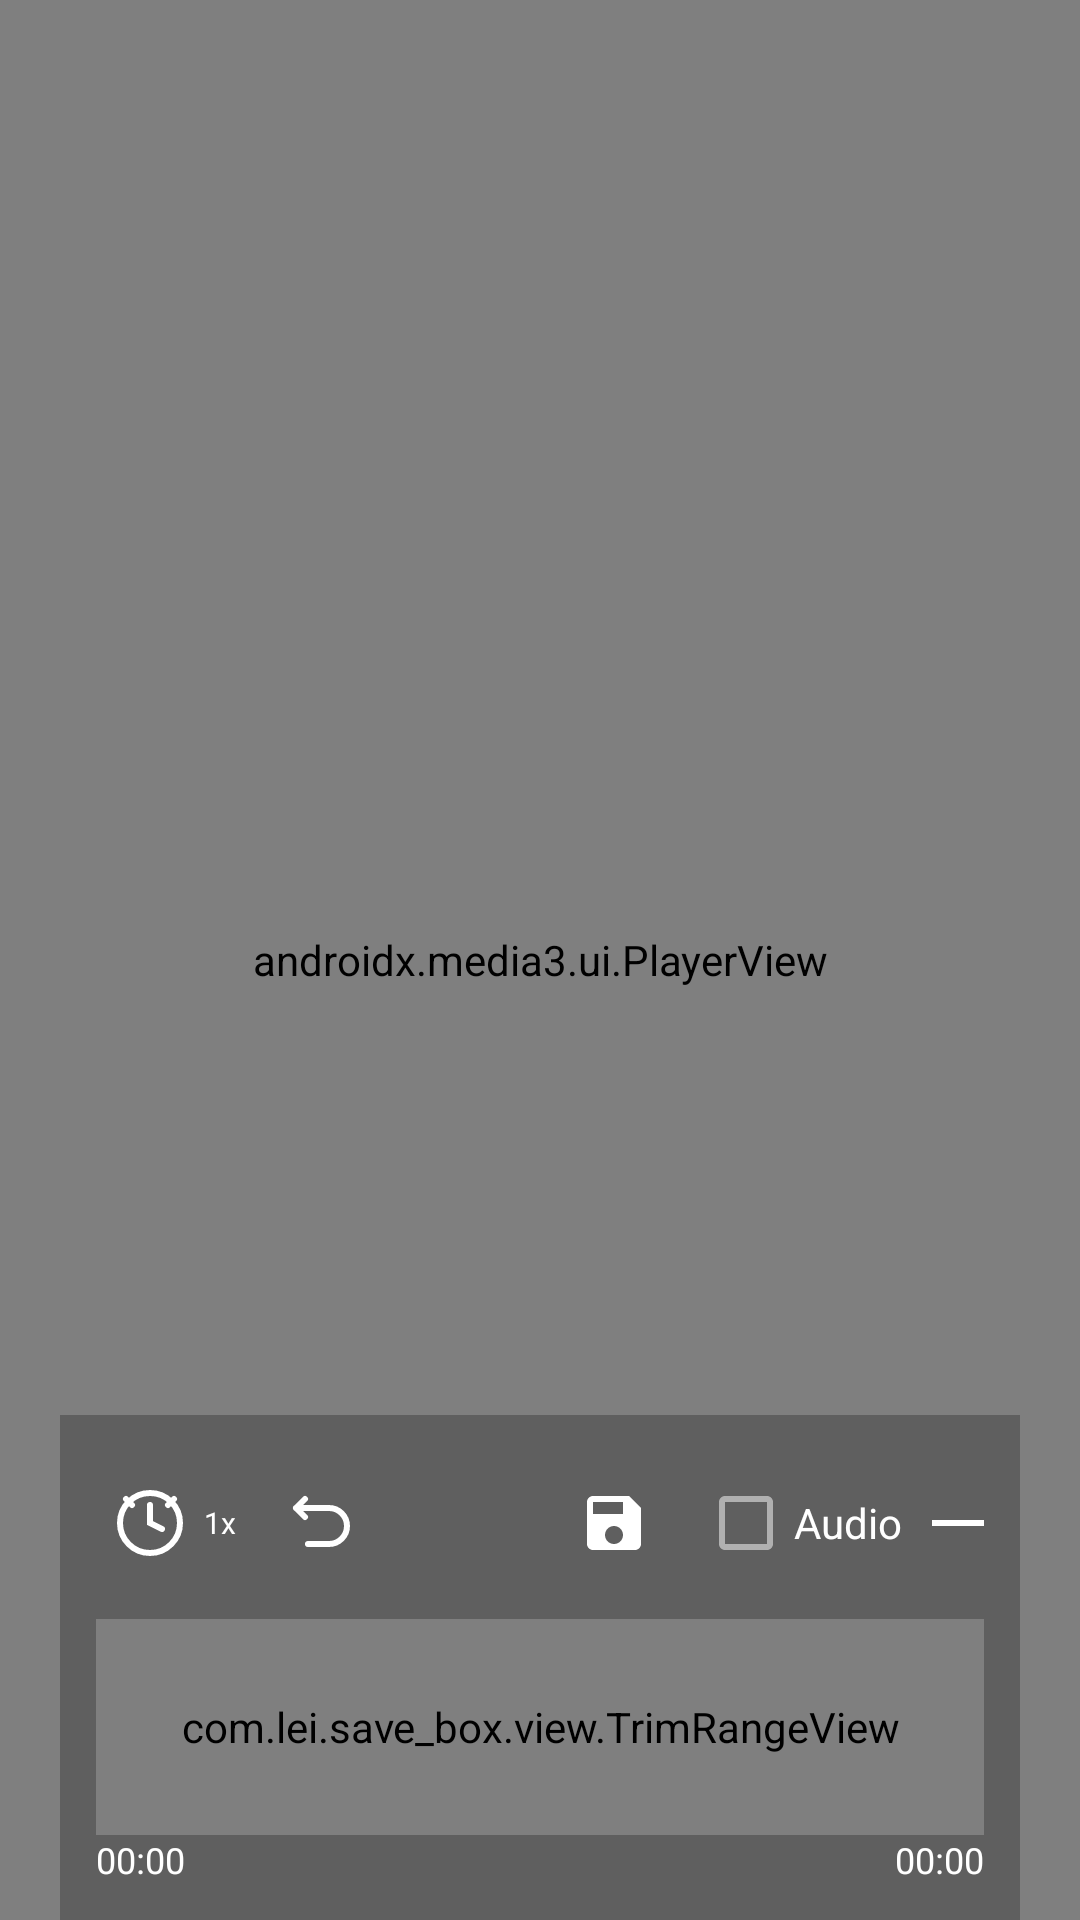

Where to tap for icons on this 1080w x 1920h app screen, as (x,y):
Speed: (150,1523)
保存裁剪: (614,1523)
撤销: (321,1521)
